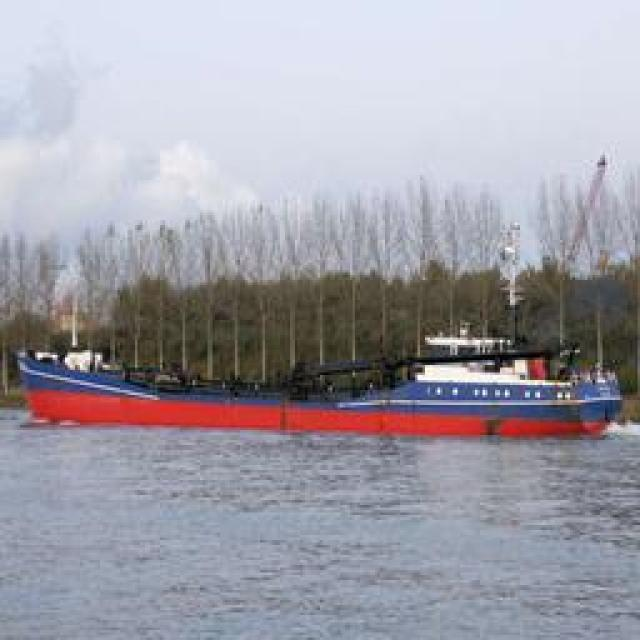CIV_Ship: (26, 358, 632, 436)
